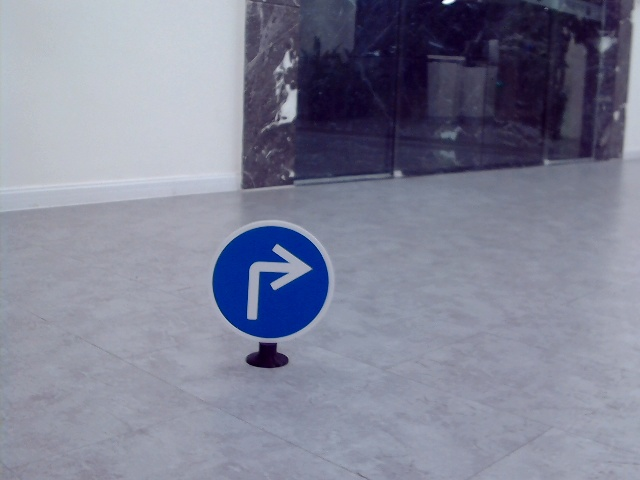turn_right: (242, 243, 309, 324)
